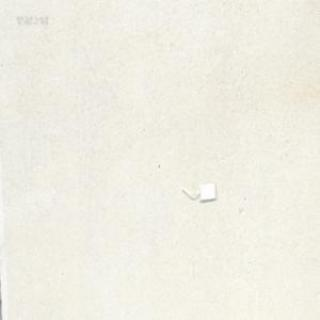LuggageTagtrack_idkeyframe: (180, 180, 216, 200)
